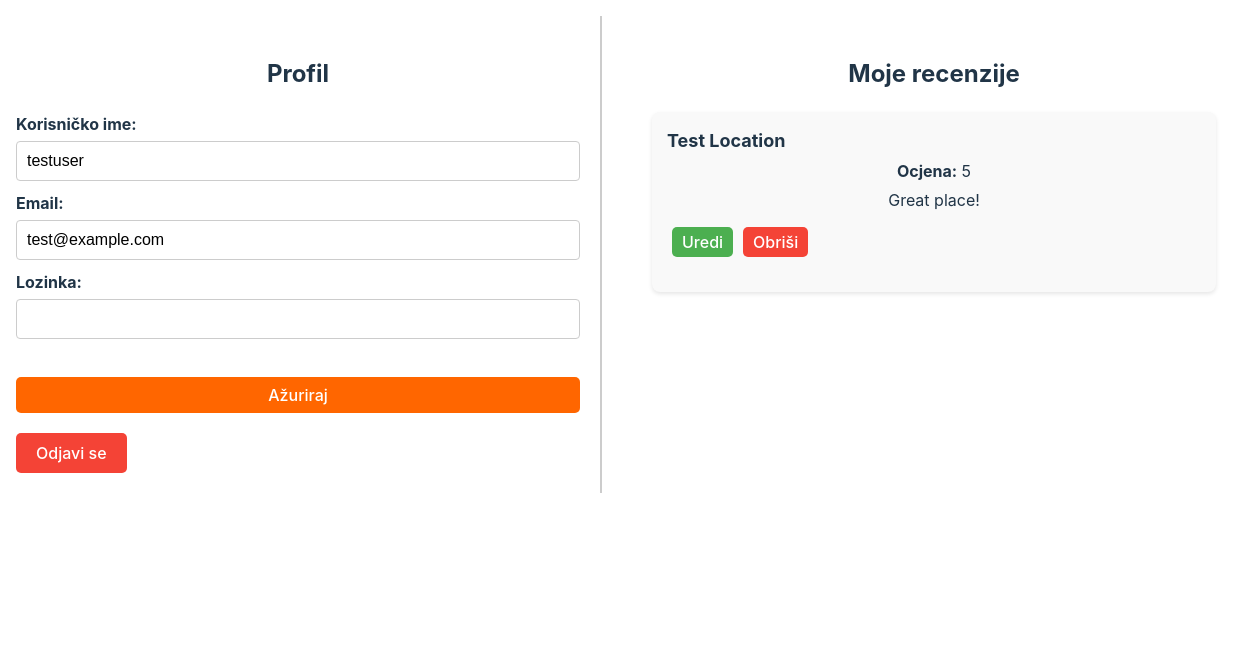
Scenario: profil › funkcionalni testovi › treba prikazati i urediti recenziju i azurirati ju
The width and height of the screenshot is (1233, 651).
Expected: the text "Great place!" is shown, [888,190,980,210]
Click the button "Uredi": (702, 242) [672,227,733,257]
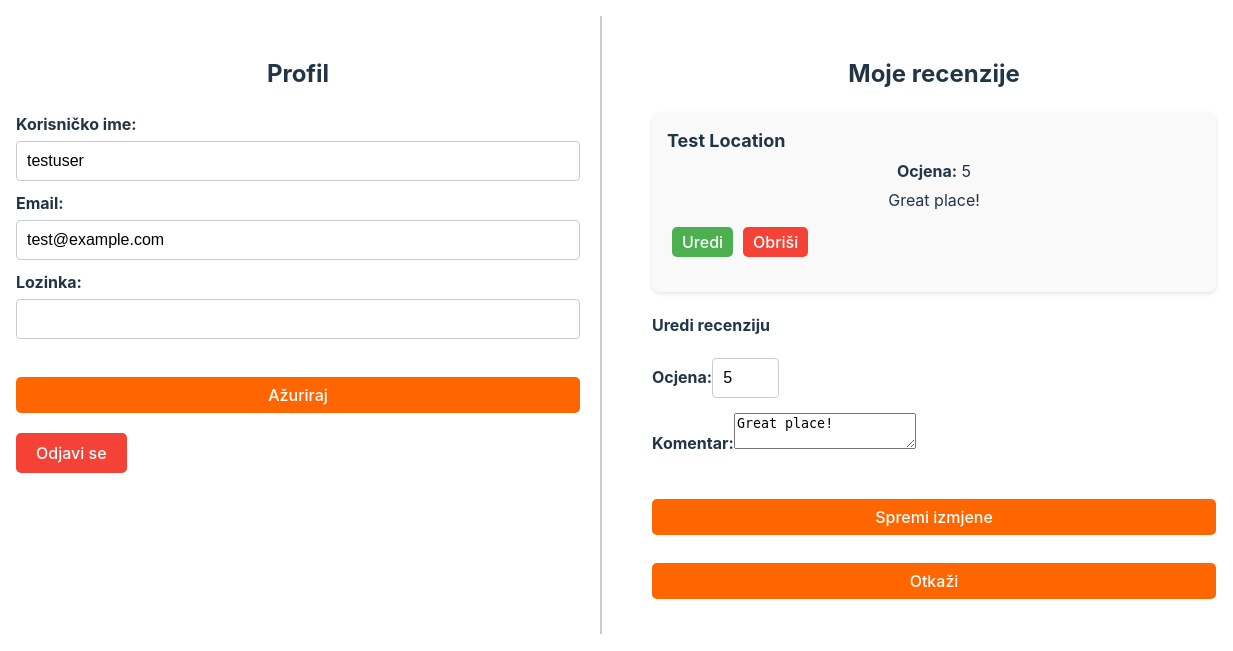
Replace the text in the text box labelled "Komentar:" with "Updated comment": (825, 431) [734,413,916,449]
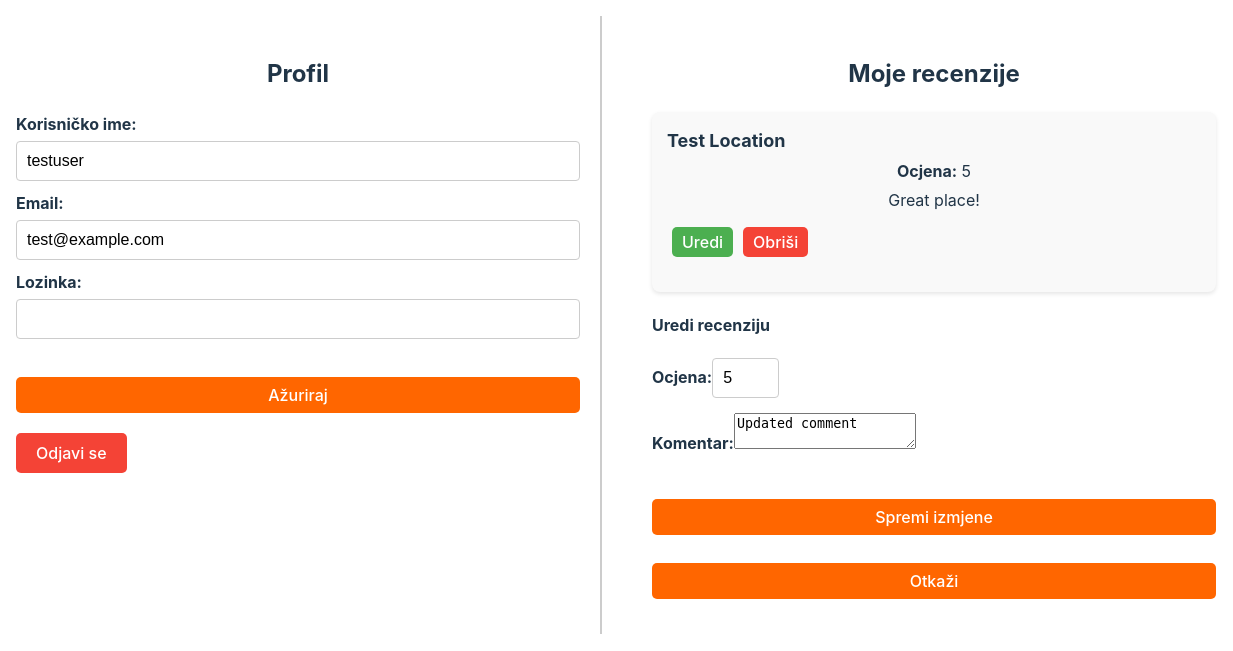
Replace the text in the number field labelled "Ocjena:" with "4": (746, 378) [712,358,779,398]
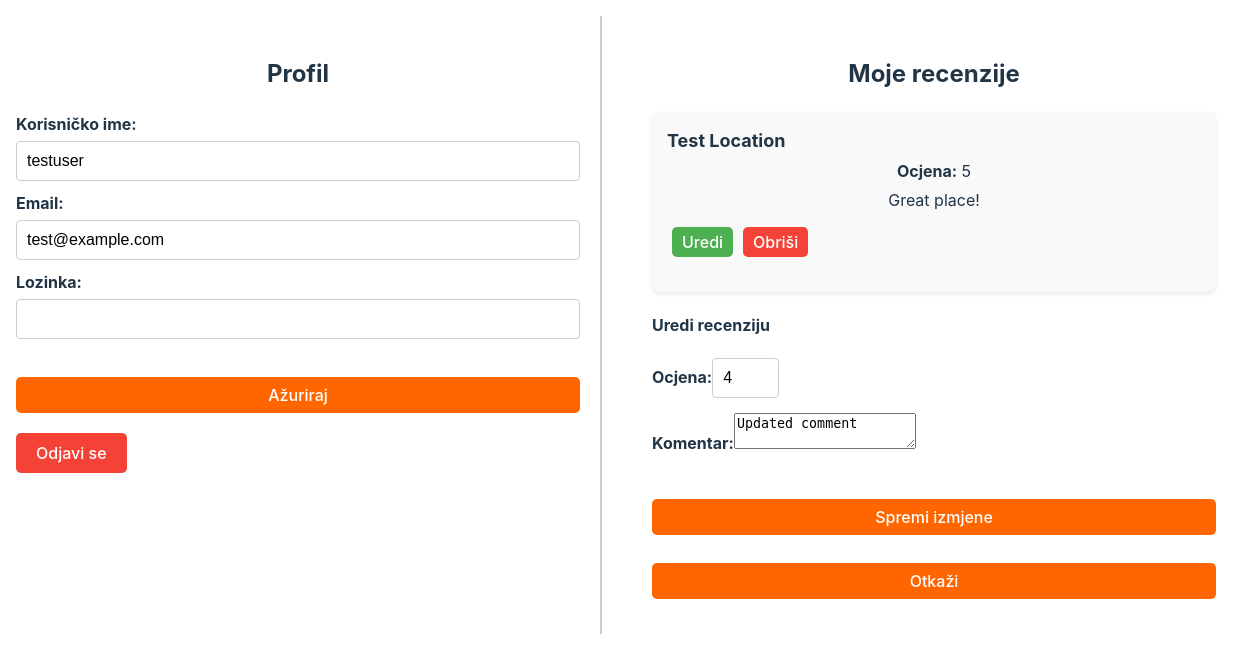
Submit the form from the button "Spremi izmjene", box [652,498,1216,534]
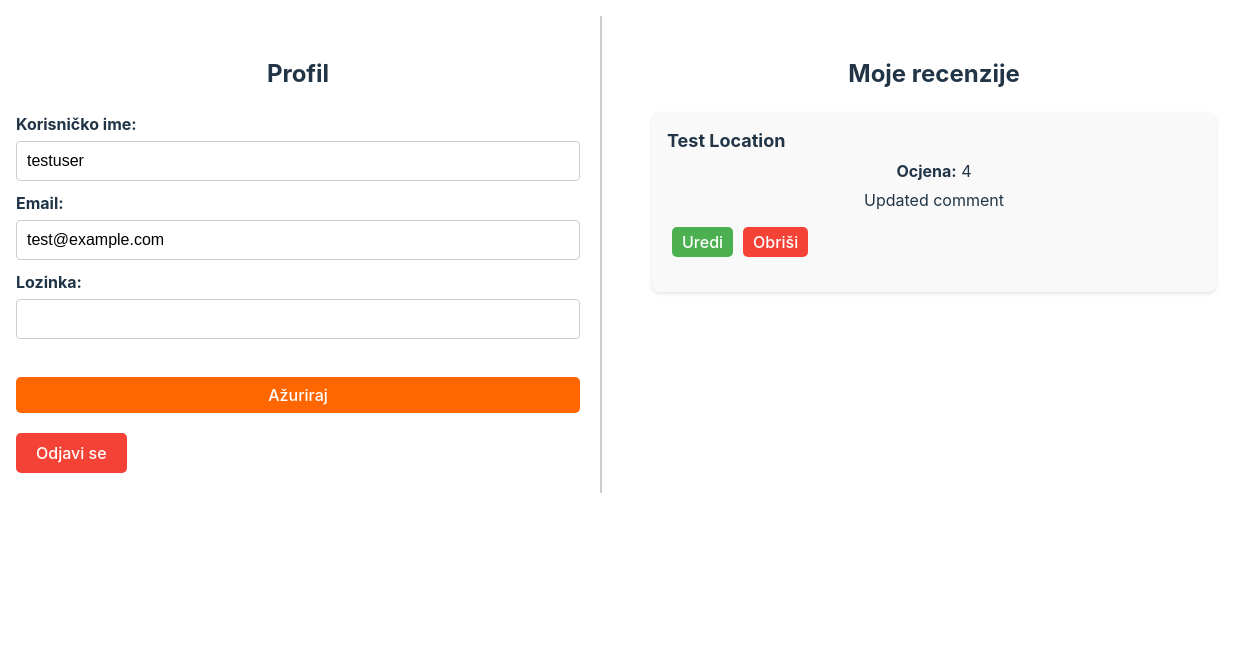
Expected: the text "Ocjena:" is shown, [896,161,957,181]
Result: the text "Updated comment" is shown at [864,190,1004,210]
Result: the text "4" is shown at [961,161,972,181]
